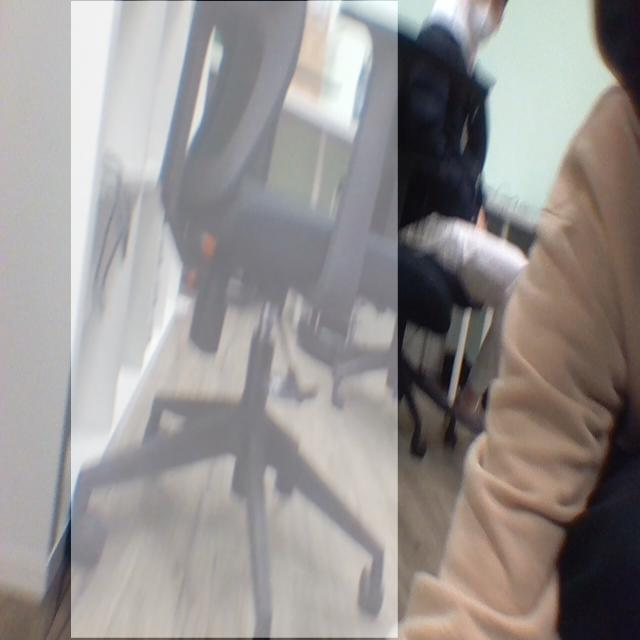chair: (71, 1, 399, 639)
